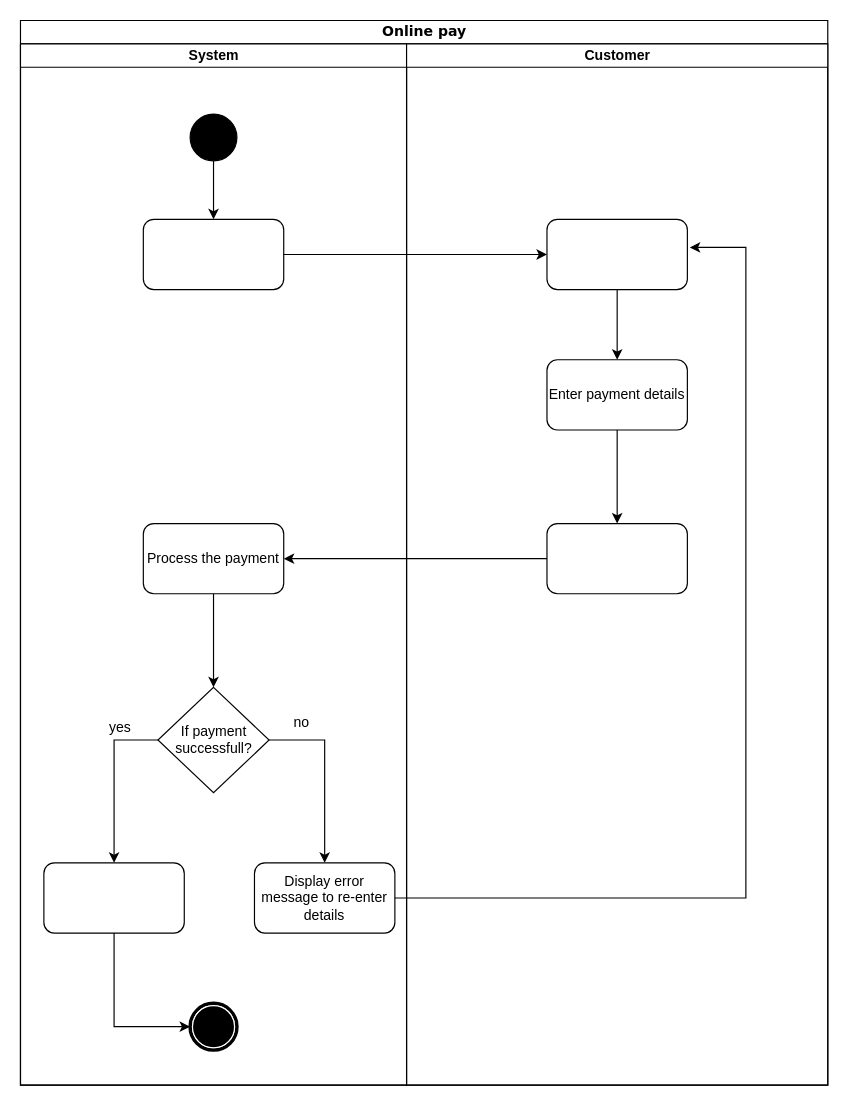
This 848x1106 diagram has some shape labels left out. The shapes that lost their labels are listed below. From the top down, each one's centre as x and y in pixels, then its label:
[213,254]: Display payment method
[616,254]: Select payment method
[616,558]: Confirm payment
[113,897]: Display succesfull message
